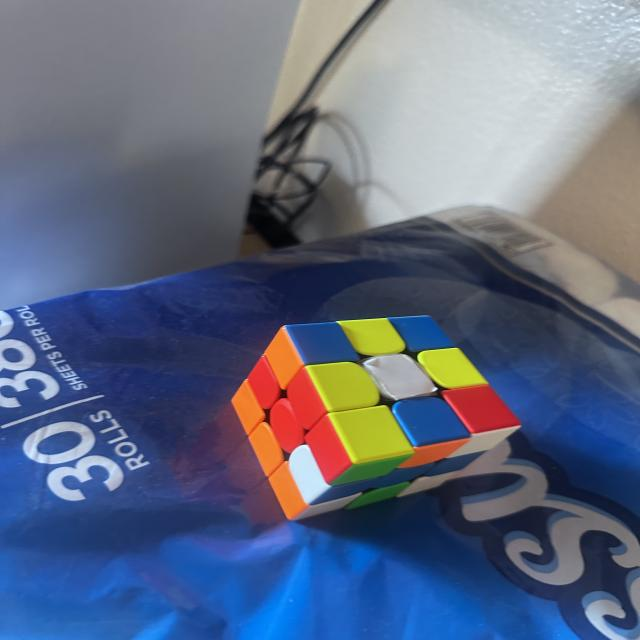sticker: (290, 440, 388, 512), (299, 361, 380, 422), (441, 383, 520, 434), (302, 413, 358, 484), (391, 395, 466, 448), (416, 346, 489, 392), (287, 322, 360, 368), (338, 406, 400, 453), (286, 366, 330, 430), (337, 317, 406, 357), (262, 326, 306, 388), (267, 462, 311, 520), (388, 315, 452, 354), (397, 438, 464, 470), (247, 422, 286, 476), (269, 398, 307, 453), (246, 355, 282, 411), (230, 380, 267, 433), (345, 481, 410, 509)
